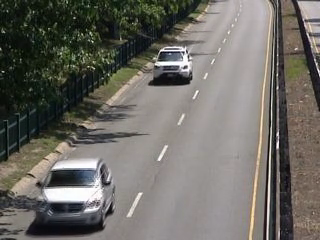car: (32, 153, 117, 230), (151, 44, 198, 87)
